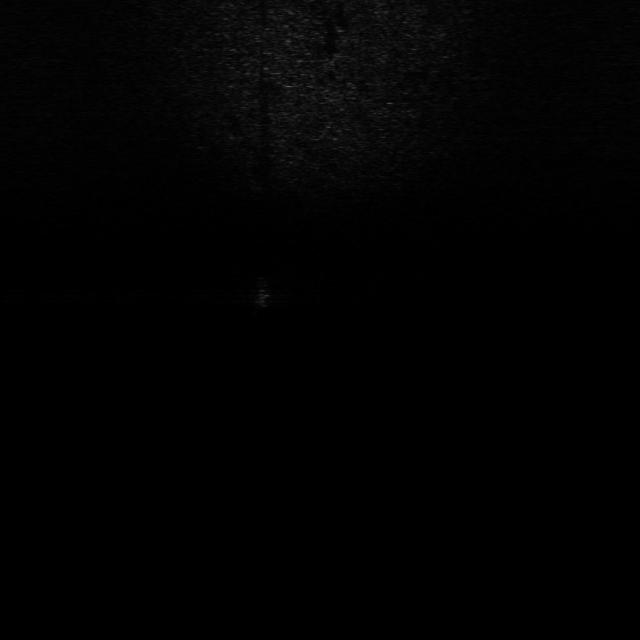human body: (246, 271, 278, 319)
